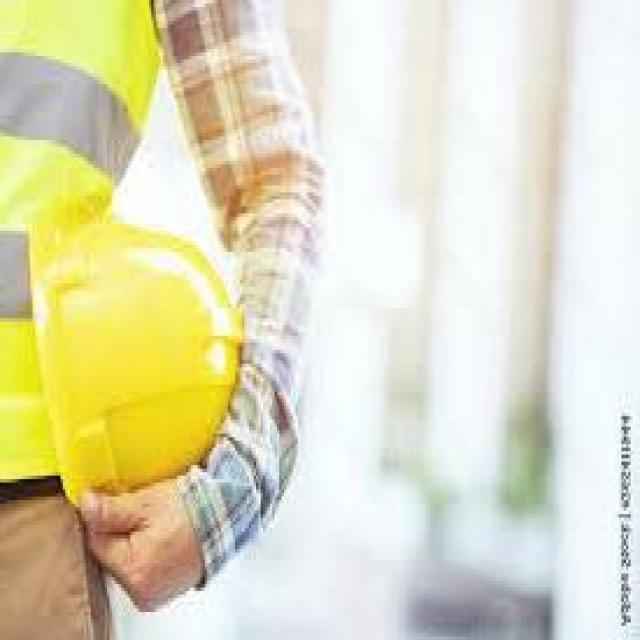Reflective-Jacket: (2, 192, 270, 514)
Safety-Helmet: (0, 188, 272, 517)
